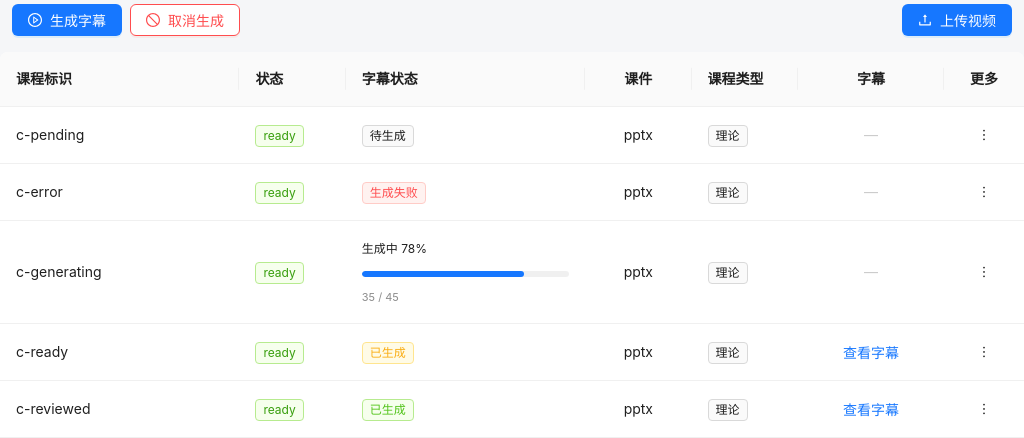
Scenario: 专栏视频批量操作（PRD v8 §5.5A.5） › 点生成字幕后才出现选择列，N=0 时确认按钮禁用
Expected: the text "c-pending" is shown, [0,107,239,164]
Click the button "生成字幕". click: (67, 20)
box: [12,4,122,36]
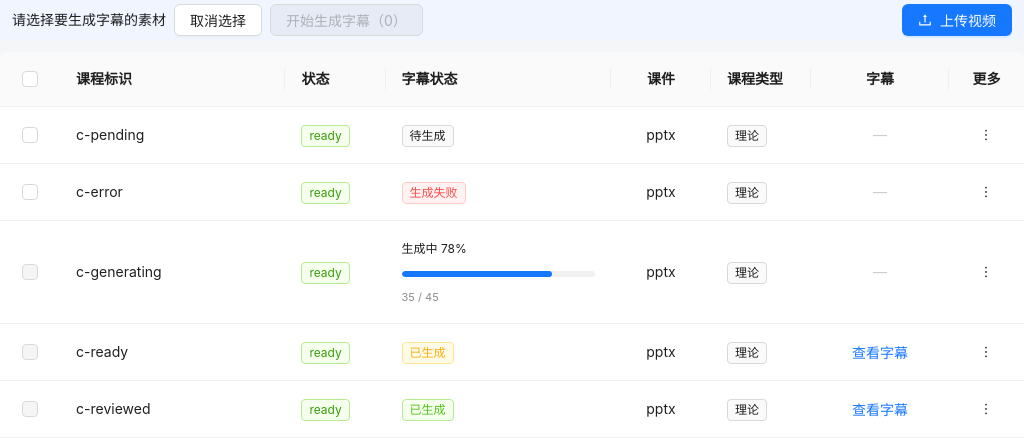
Expected: the button "开始生成字幕（0）" is disabled, [270,4,423,36]
